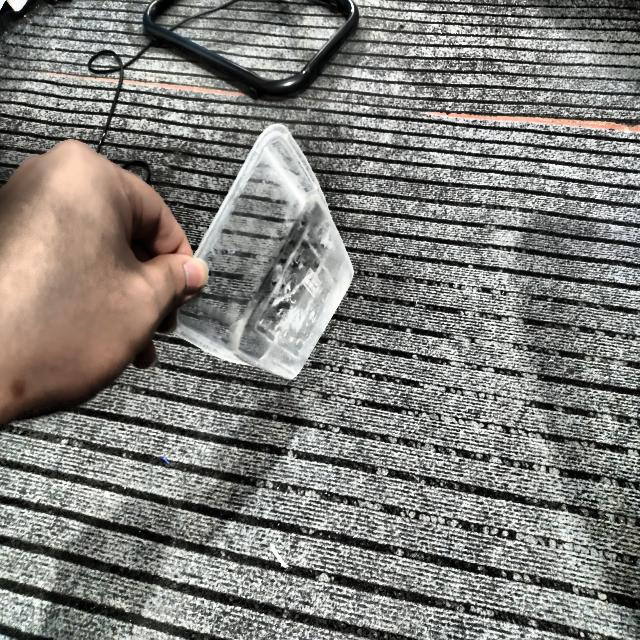plastic container: (176, 125, 354, 378)
